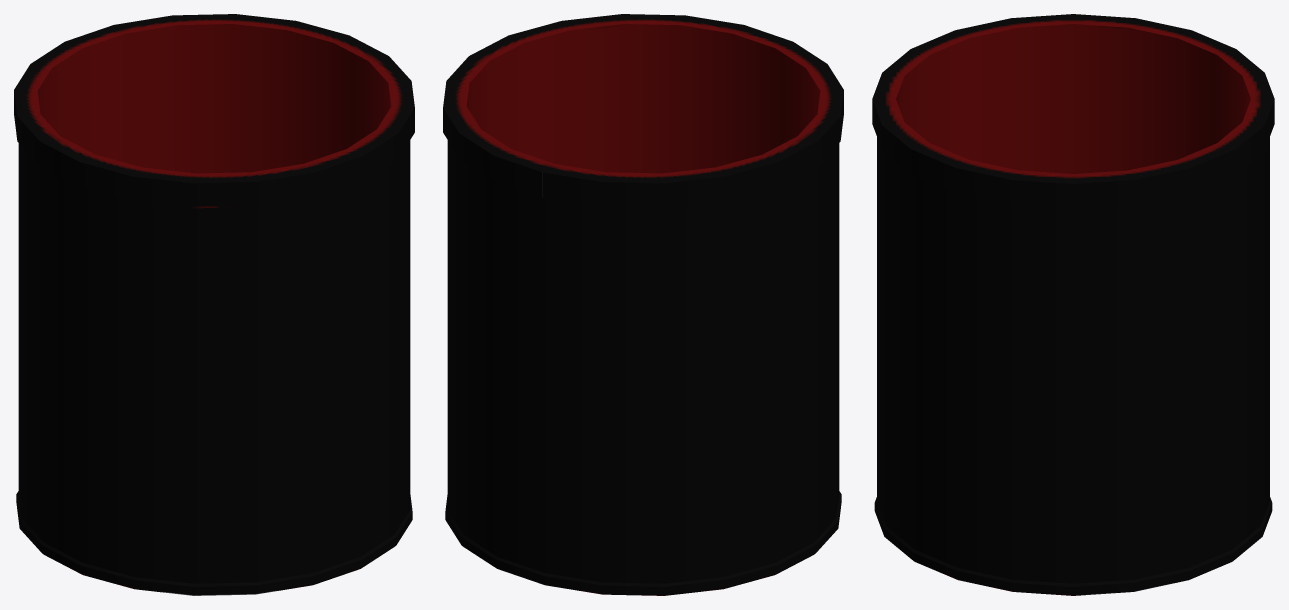
The model's file is SM_GamblingCup.fbx.
3 views of the same model, side by side, from view 1: azimuth 30°, elevation 25°; view 2: azimuth 150°, elevation 25°; view 3: azimuth 270°, elevation 25° (orthographic).
Visible parts, largest first — view 1: SM_DiceCup_mesh; view 2: SM_DiceCup_mesh; view 3: SM_DiceCup_mesh.
Part boxes in pixels (x1=…): SM_DiceCup_mesh: x1=14, y1=14, x2=414, y2=595; SM_DiceCup_mesh: x1=443, y1=14, x2=843, y2=595; SM_DiceCup_mesh: x1=872, y1=14, x2=1274, y2=595.
Size of the model in its own units: 0.1717 by 0.1948 by 0.1717.
Materials: 1 (1 with a texture image).
